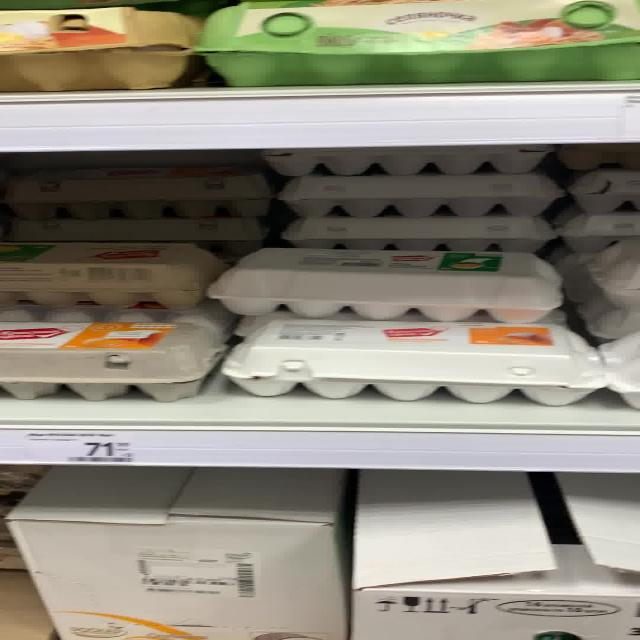egg box: (185, 0, 633, 88), (232, 320, 606, 404), (220, 245, 566, 326), (7, 315, 222, 397), (12, 232, 208, 307)
